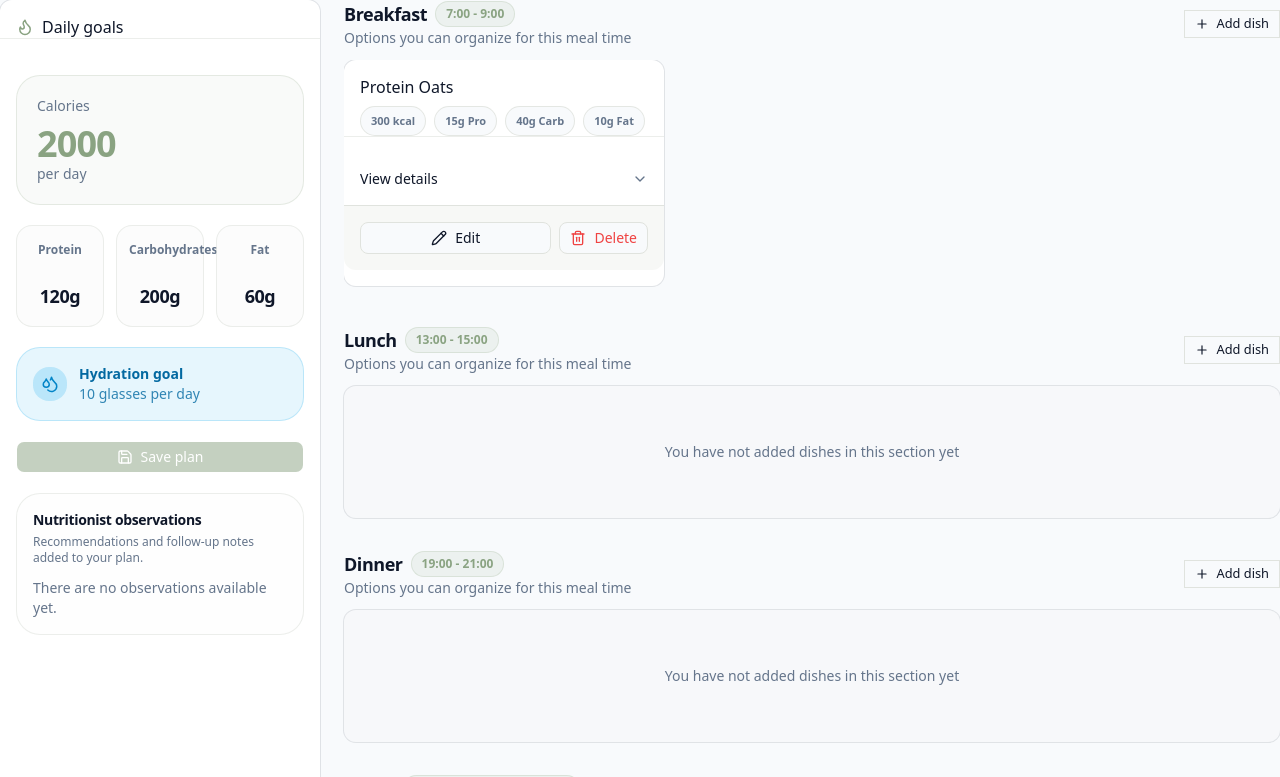
Test: NutritionPlanWorkspace › shows a no-results message when the ingredient search returns no foods
Click the button "Add dish" in the row of "7:00 - 9:00".
click(1232, 24)  # box [1184,10,1279,38]
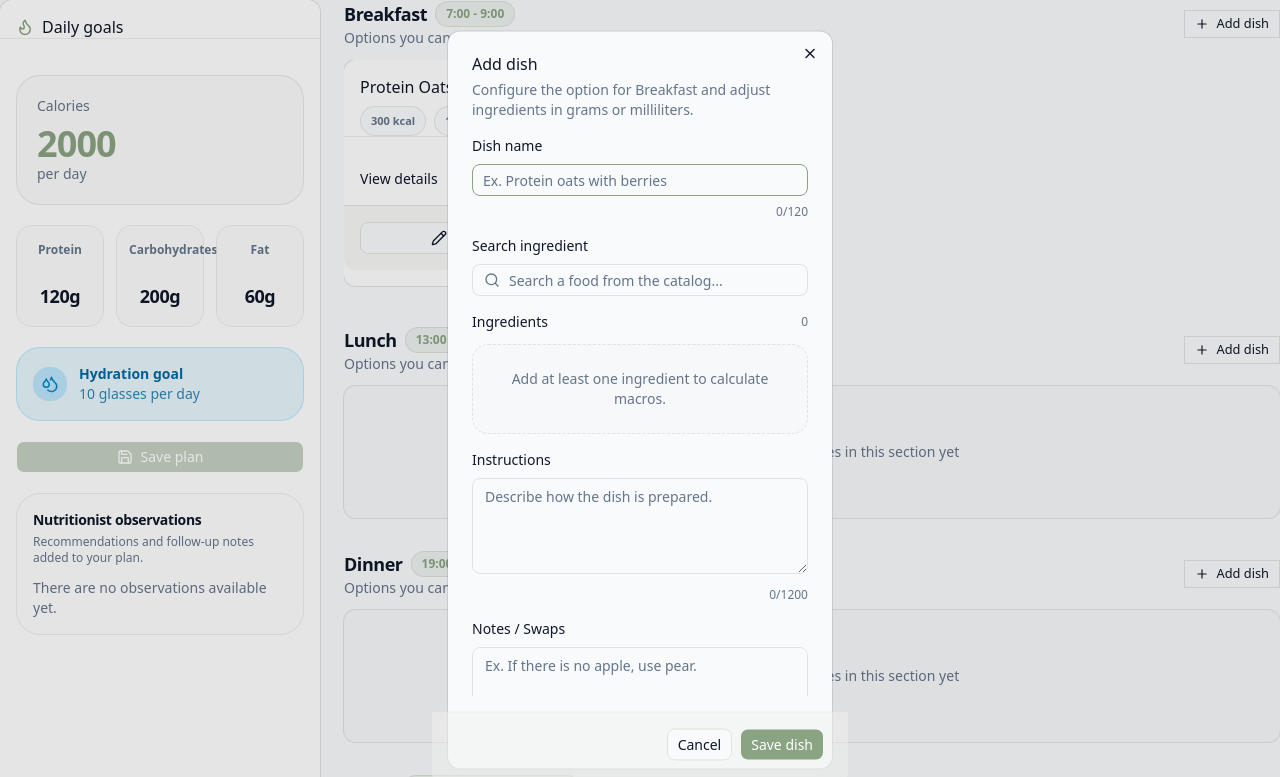
Type "Chicken" into the field with placeholder "Search a food from the catalog...".
click(640, 280); type("Chicken")  # box [472,264,808,296]
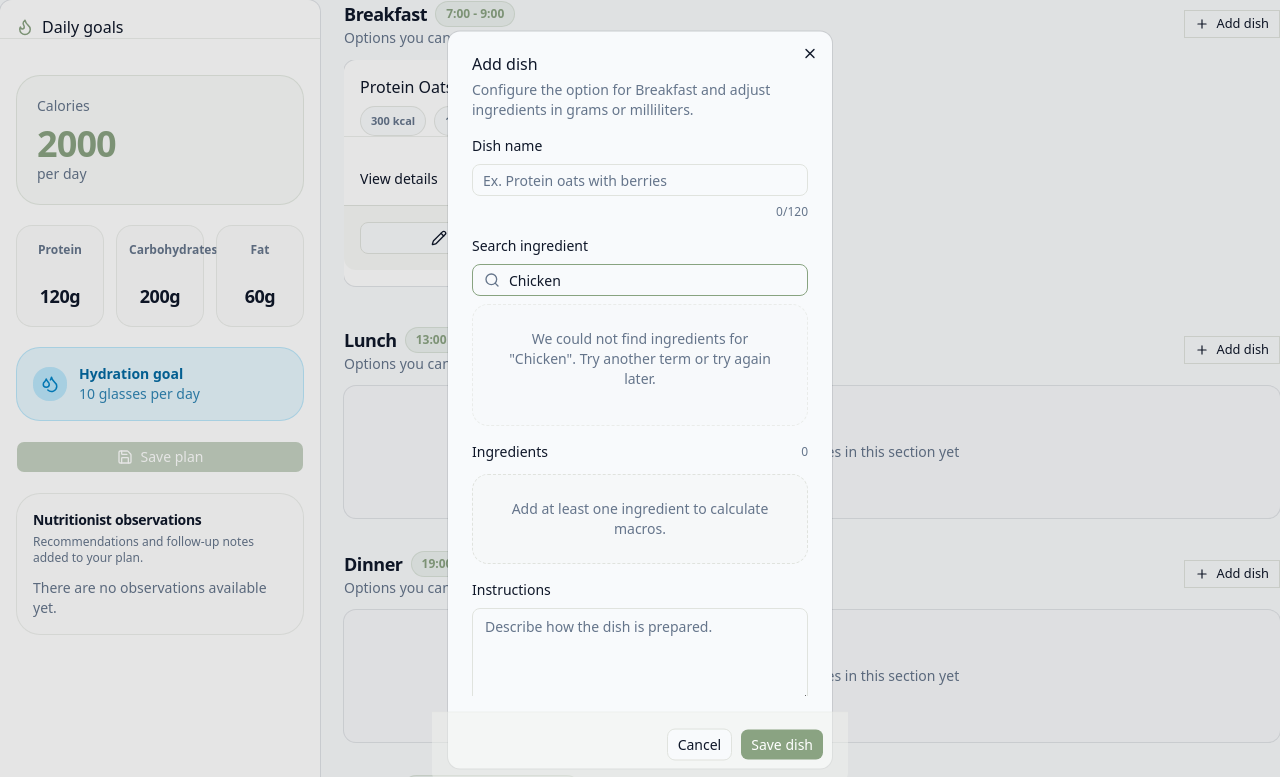
Expected: the text "We could not find ingredients for \"Chicken\". Try another term or try again later." is shown, [509,328,771,388]
